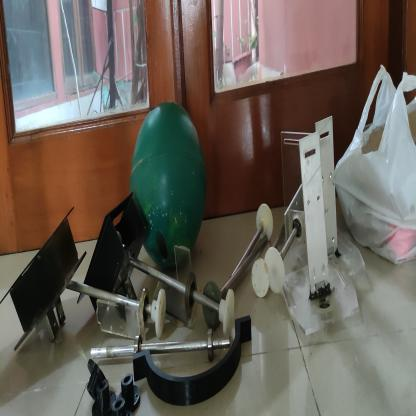green_buoy: (128, 101, 209, 270)
